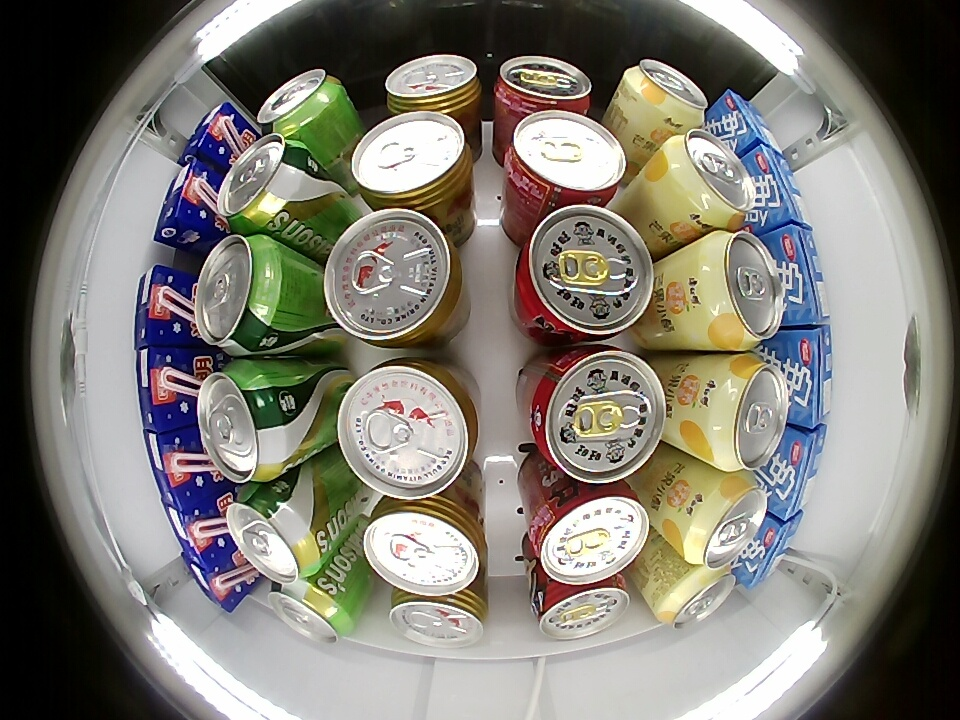bingqilinniunai: (154, 158, 218, 247), (144, 427, 211, 510), (134, 264, 197, 348), (136, 347, 197, 432), (178, 101, 254, 169), (162, 497, 226, 570), (181, 546, 249, 613)
hongniu2: (337, 358, 479, 500), (323, 208, 465, 349), (351, 112, 474, 214), (363, 494, 485, 596), (384, 54, 483, 119), (389, 586, 487, 648)
mangguoxiaolao: (695, 230, 788, 348), (703, 355, 790, 471), (657, 129, 755, 229), (681, 475, 767, 569), (623, 59, 708, 126), (654, 565, 735, 627)
quchenshixiangcao: (197, 358, 289, 483), (195, 235, 283, 356), (226, 484, 322, 584), (216, 133, 307, 235), (257, 69, 344, 138), (266, 578, 353, 646)
wangzainiunai: (524, 346, 666, 482), (514, 207, 655, 342), (527, 477, 650, 584), (503, 110, 628, 210), (532, 570, 631, 640), (494, 55, 593, 122)
weitanai: (765, 422, 827, 521), (775, 324, 834, 428), (774, 224, 833, 327), (747, 144, 814, 232), (736, 506, 803, 587), (711, 89, 783, 155)
